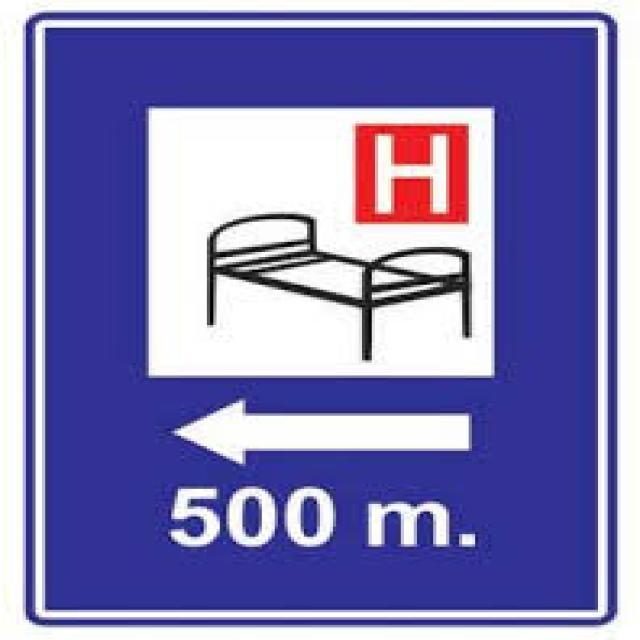hospital ahead: (35, 25, 608, 618)
